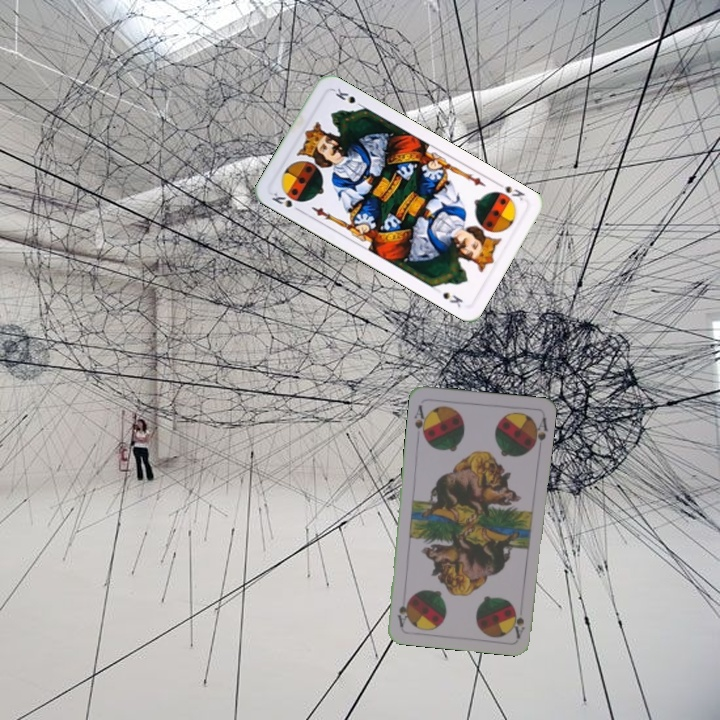SA: (411, 401, 430, 441), (510, 607, 527, 640)
SK: (267, 188, 305, 215), (492, 178, 527, 203)
